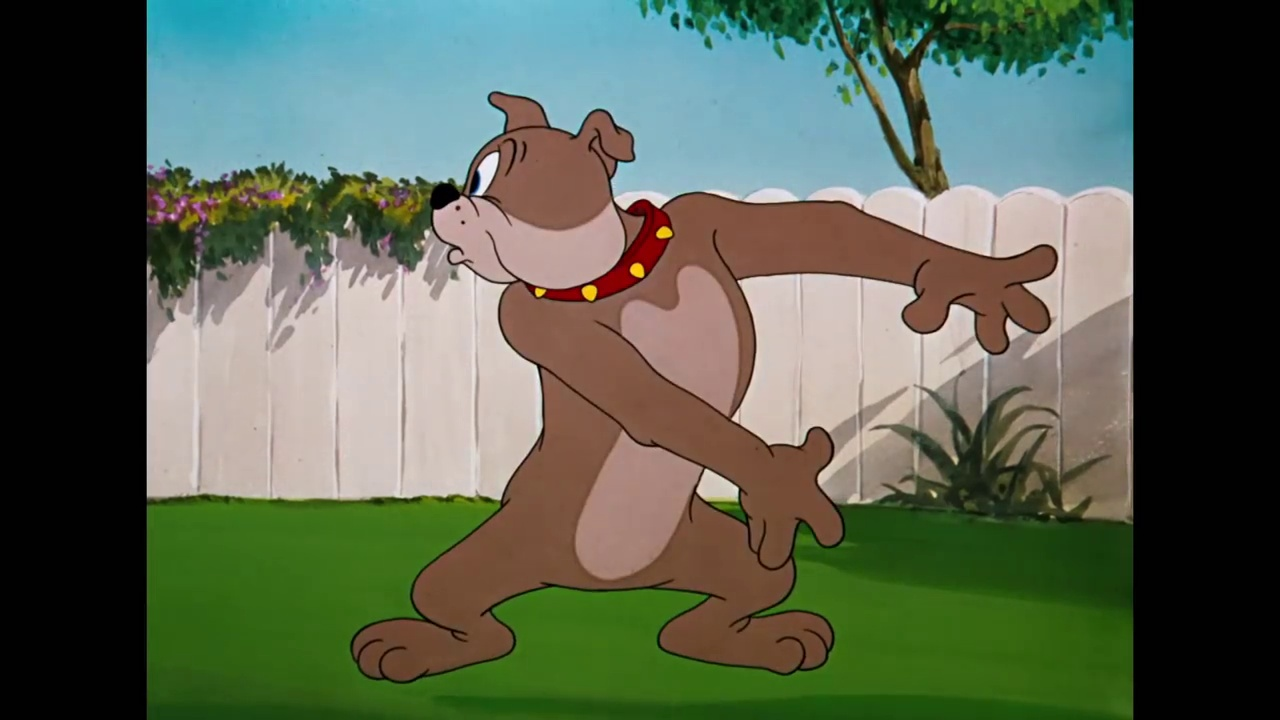spike: (423, 84, 679, 309)
